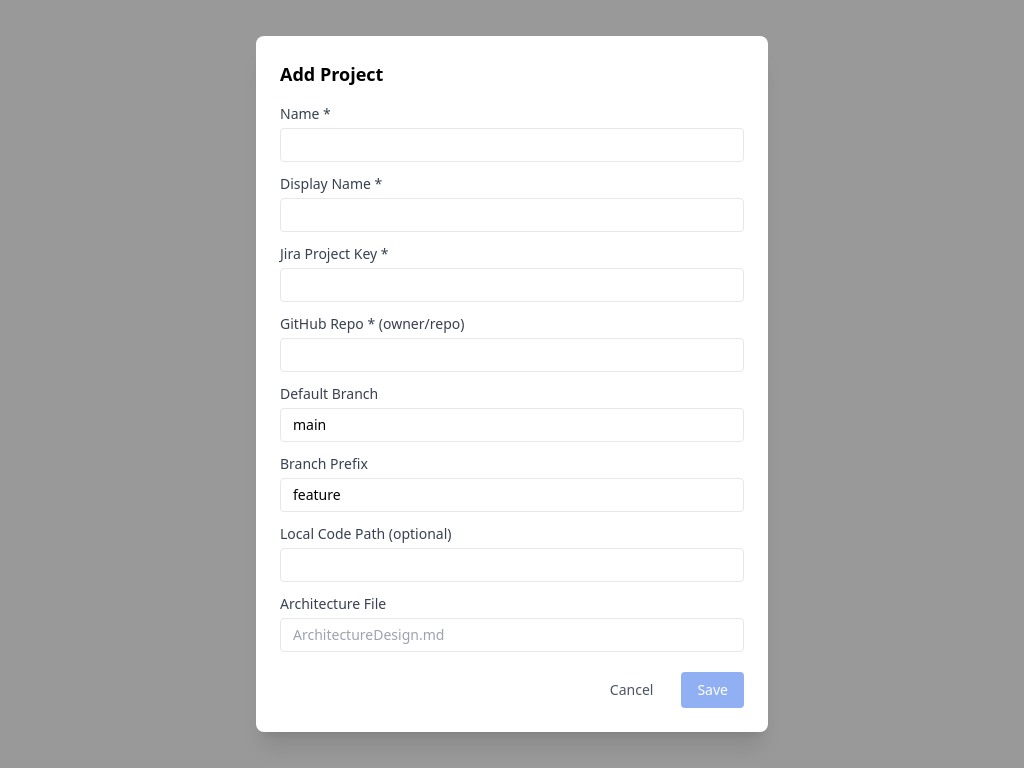
Test: ProjectModal — add mode › enables Save when all required fields are filled with valid slug
Step 1. Type "myproject" into the field labelled "Name *" → (512, 145), box [280,128,744,162]
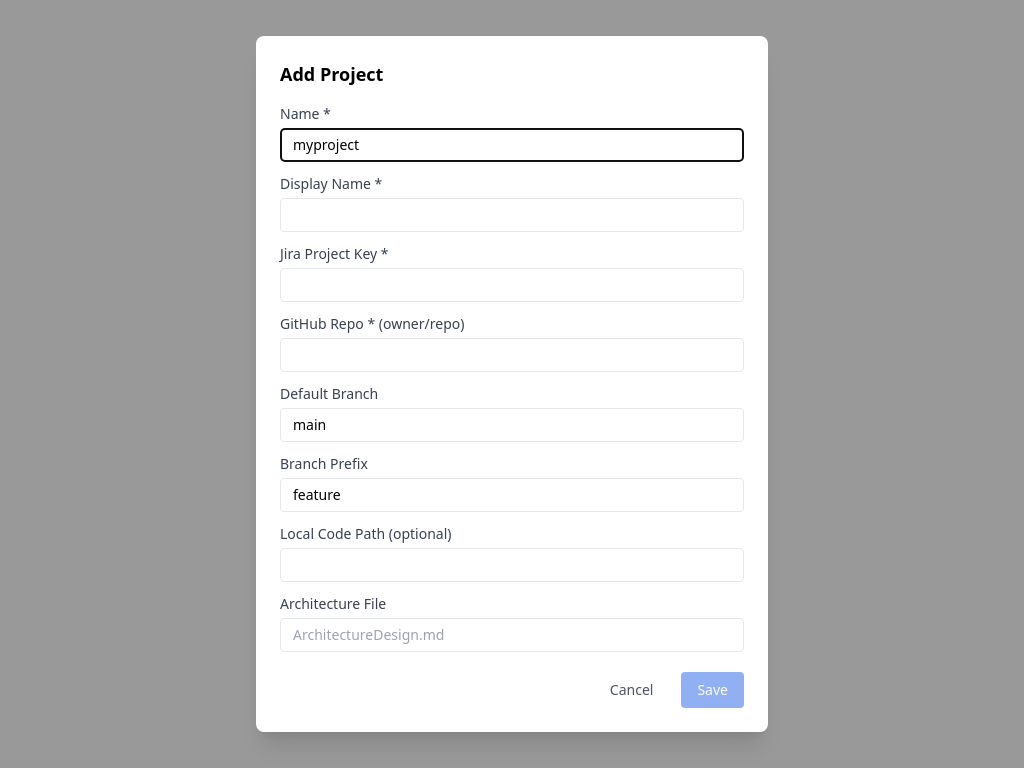
Step 2. Type "My Project" into the field labelled "Display Name *" → (512, 215), box [280,198,744,232]
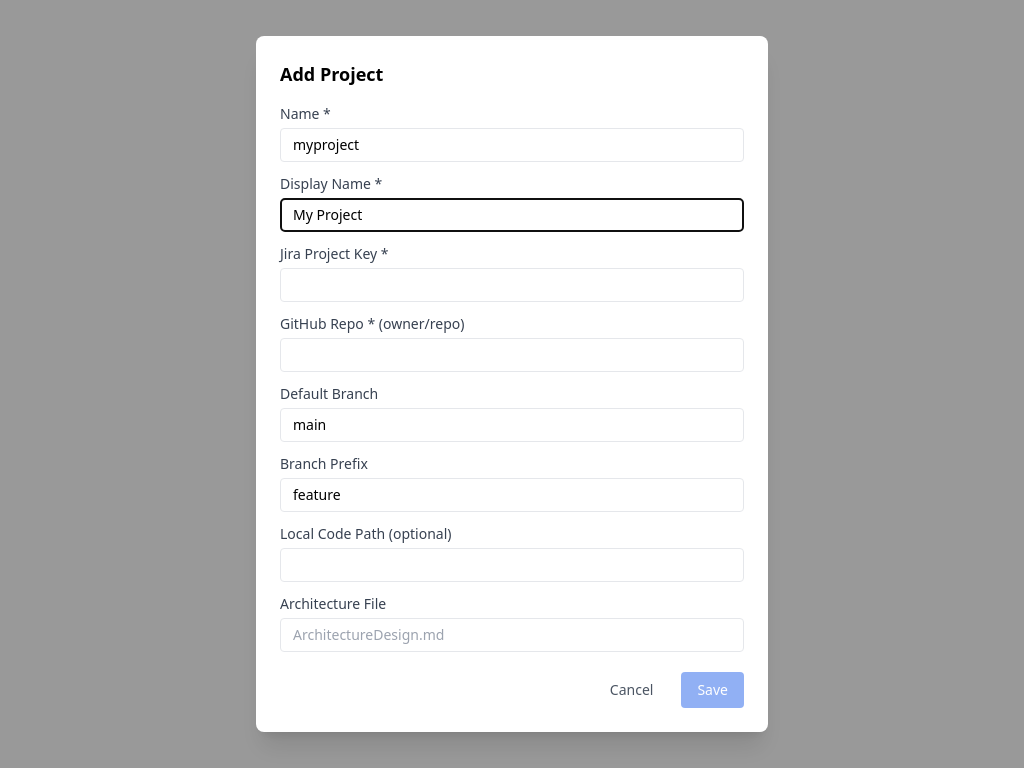
Step 3. Type "MP" into the field labelled "Jira Project Key *" → (512, 285), box [280,268,744,302]
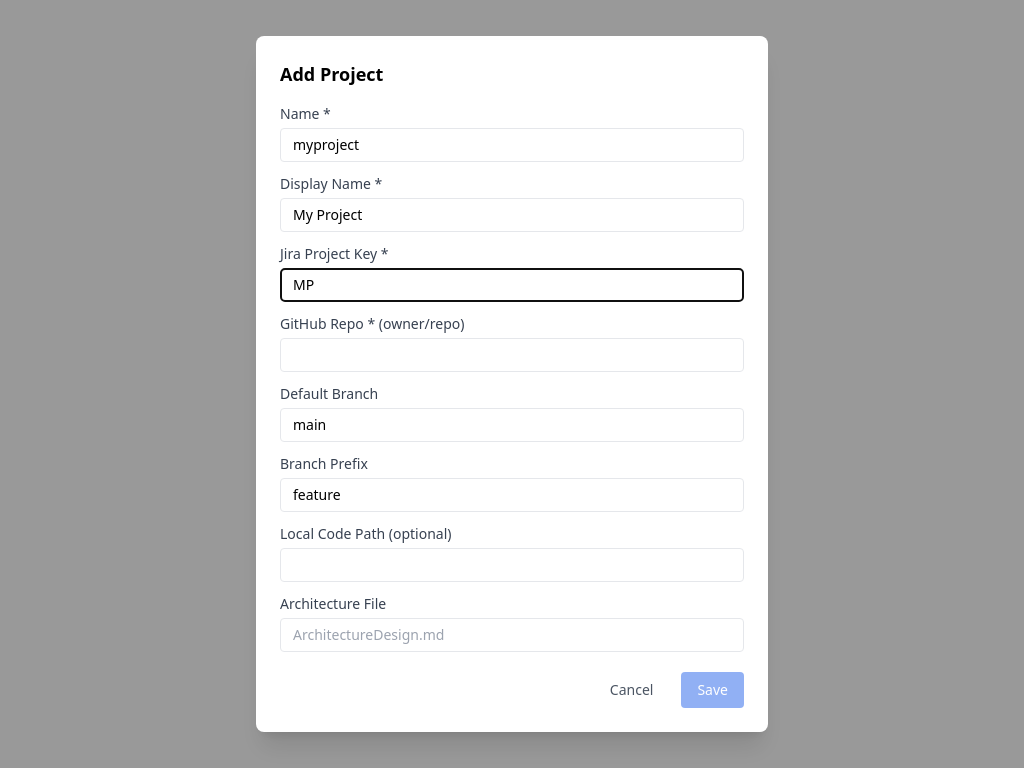
Step 4. Type "owner/myproject" into the field labelled "GitHub Repo * (owner/repo)" → (512, 355), box [280,338,744,372]
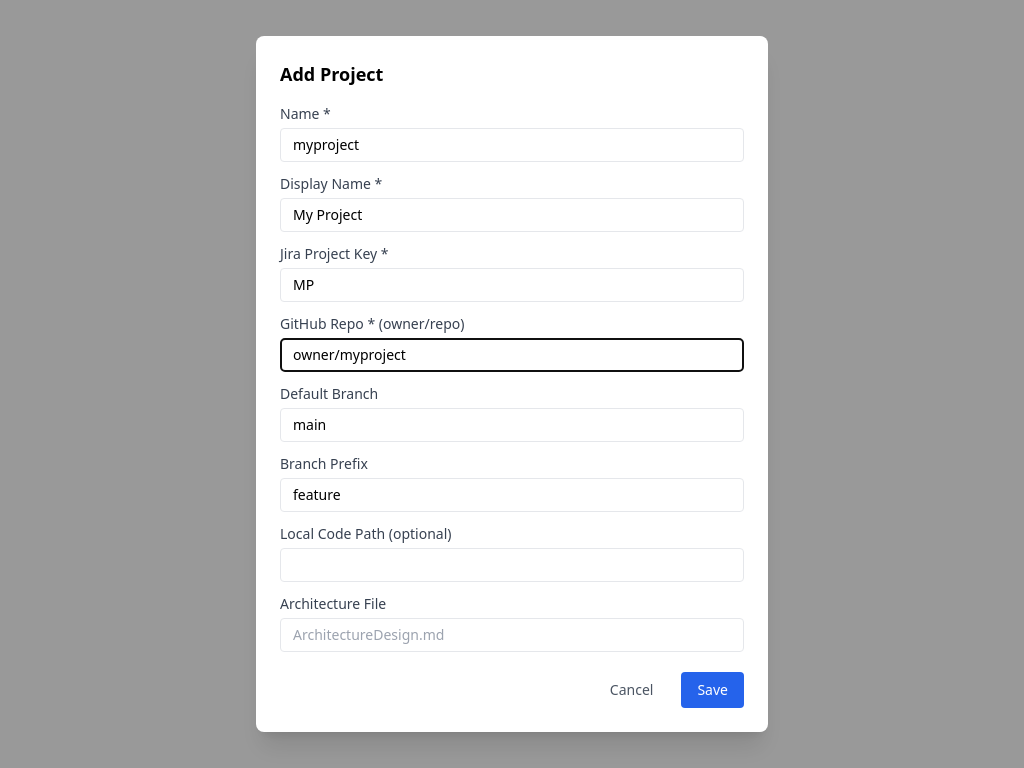
Expected: the button "Save" is enabled, [681,672,744,708]
